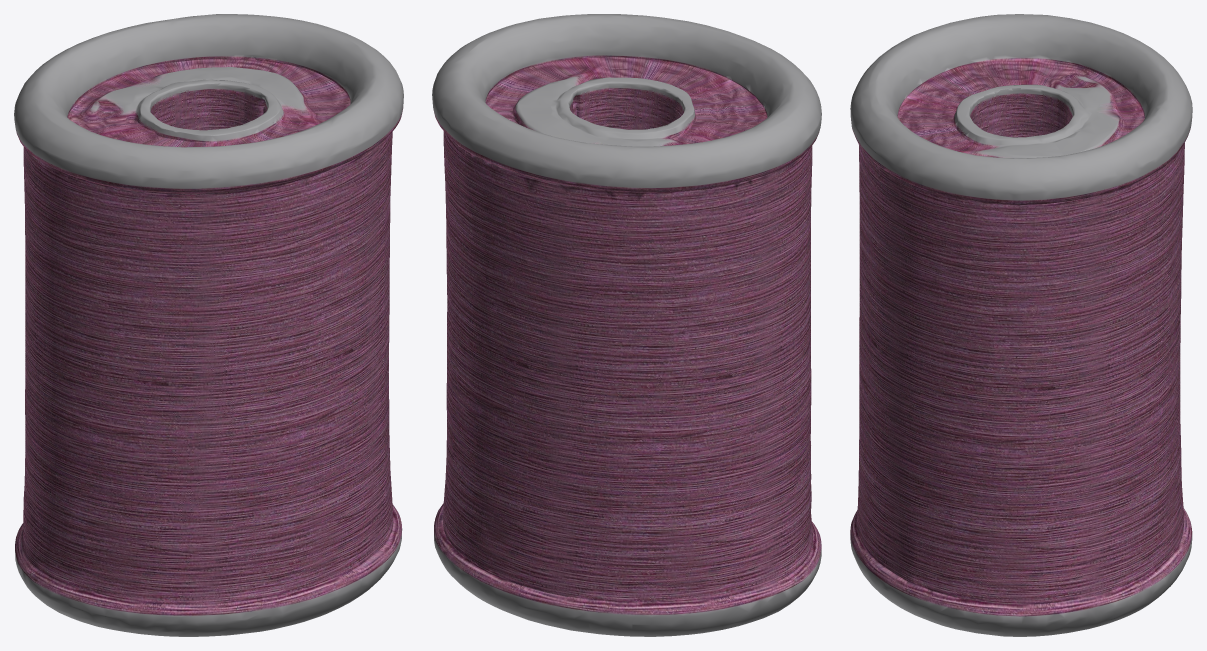
The model's file is pink-silk-fast.glb.
3 views of the same model, side by side, from view 1: azimuth 30°, elevation 25°; view 2: azimuth 150°, elevation 25°; view 3: azimuth 270°, elevation 25° (orthographic). The views are drawn at different scales.
Parts seen in each view (by area): view 1: world; view 2: world; view 3: world.
Part boxes in pixels (<box>): world: <box>14,14,403,636</box>; world: <box>432,14,821,636</box>; world: <box>850,14,1192,636</box>.
Bounding box in the file's own units: 0.7525 × 1 × 0.653.
Materials: 2 (1 with a texture image).
